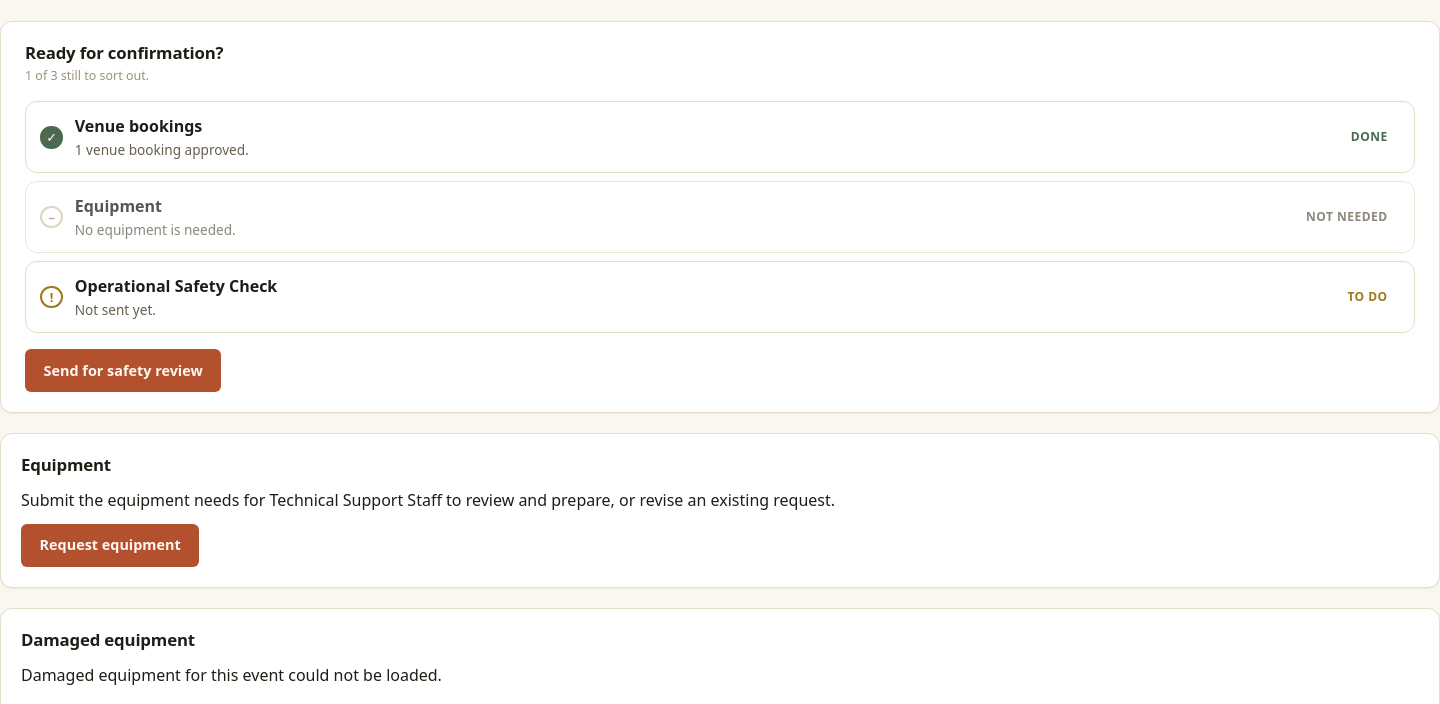
EC08 readiness, send for safety review, withdraw and confirm › EC08 AC3, AC16, EC-NEW2 AC21 (happy): lists each prerequisite with its state and sends the event for review
The image size is (1440, 704).
(page scrolled)
Check: the text "1 venue booking approved." is shown, box [75,140,249,159]
Check: the text "1 of 3 still to sort out." is shown, box [25,67,149,84]
What coordinates should you click on to do the following:
click the button "Send for safety review"
I would click on:
 (123, 371)
Its box is [25,349,221,392].
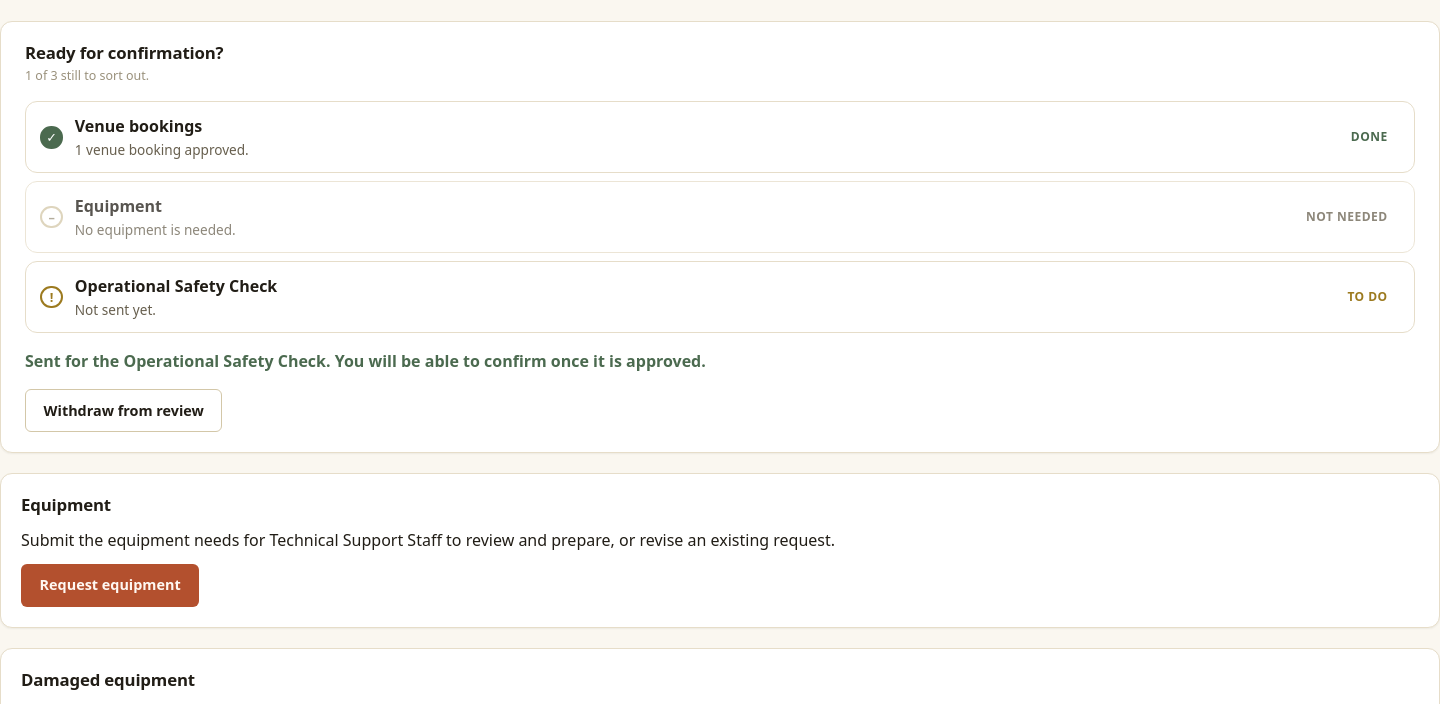
Check: the text "Sent for the Operational Safety Check" is shown, box [25,350,706,372]
Check: the button "Withdraw from review" is shown, box [25,389,222,432]
